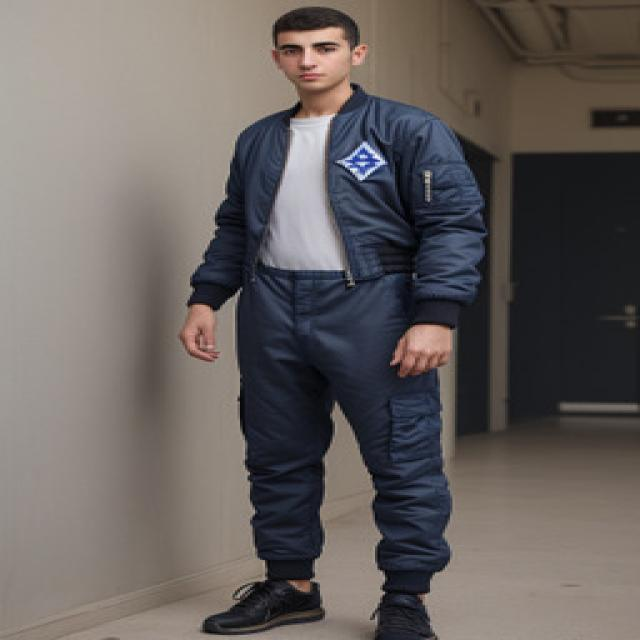Ai human 2: (167, 1, 520, 640)
